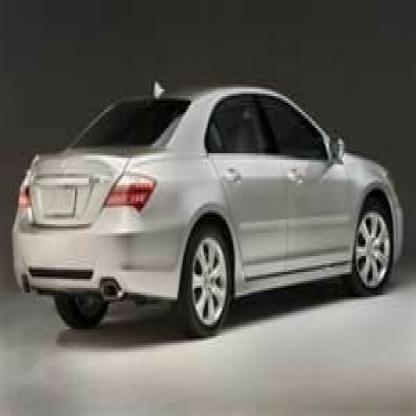car: (11, 84, 408, 343)
